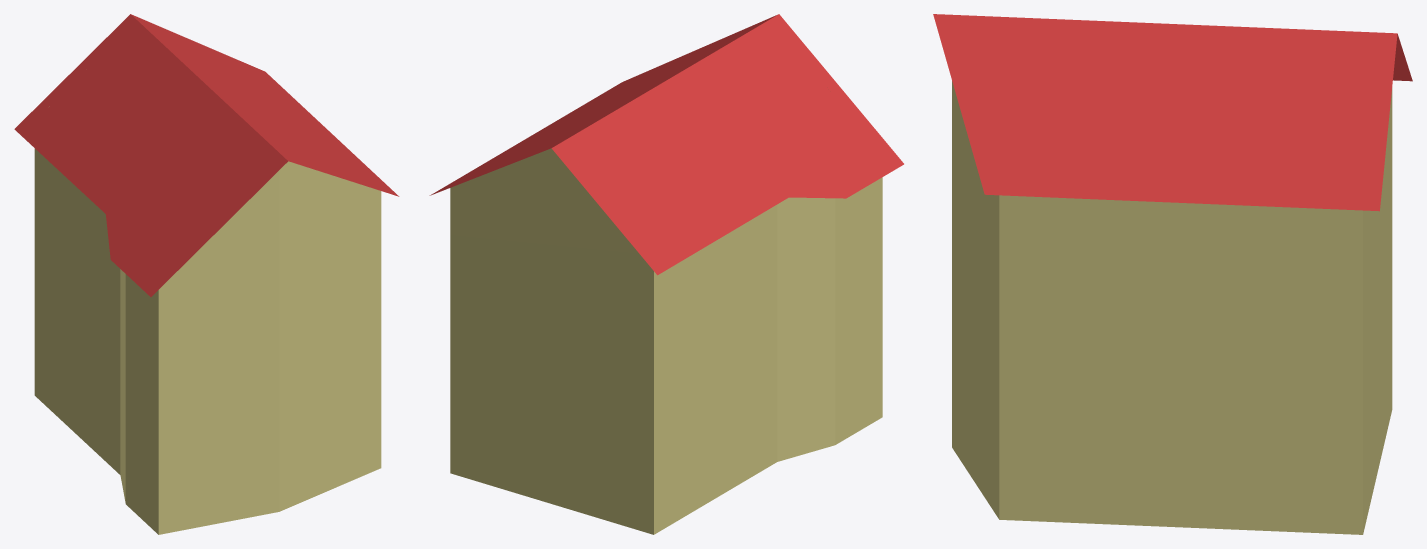
3 views of the same model, side by side, from view 1: azimuth 30°, elevation 25°; view 2: azimuth 150°, elevation 25°; view 3: azimuth 270°, elevation 25° (orthographic). The views are drawn at different scales.
Size of the model in its own units: 10.92 by 12.82 by 12.8.
